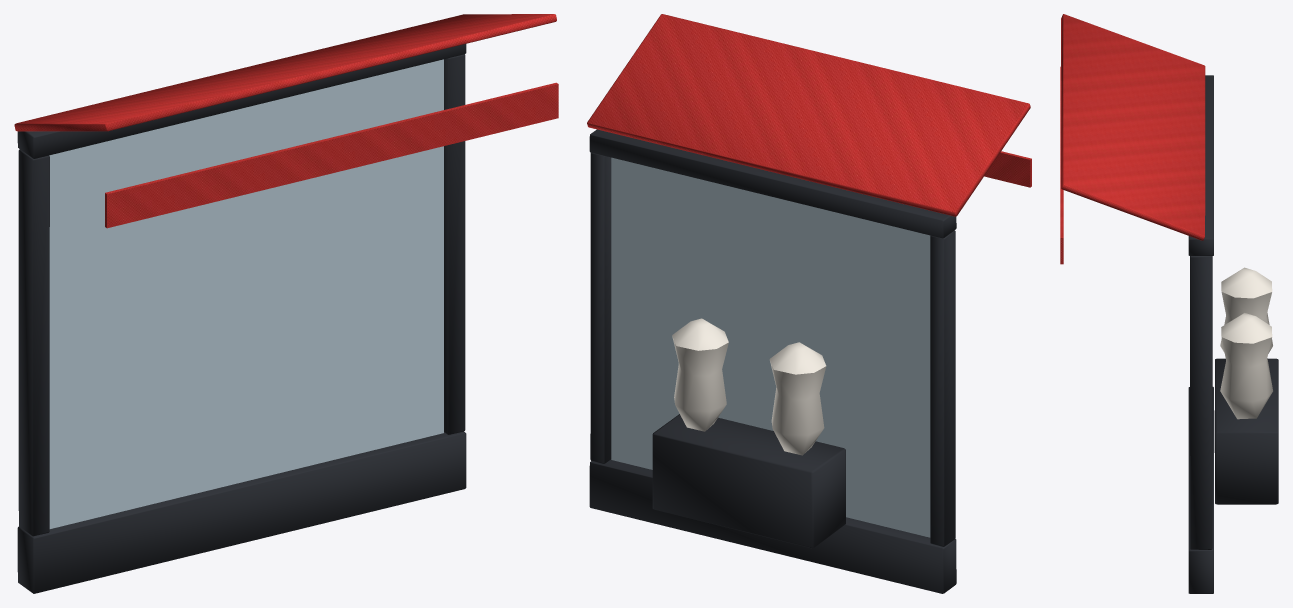
File: fachada-vitrine-22-leve.glb
3 renders of one model, left to right at view 1: azimuth 30°, elevation 25°; view 2: azimuth 150°, elevation 25°; view 3: azimuth 270°, elevation 25°, orthographic. The views are drawn at different scales.
Parts seen in each view (by area): view 1: vidro, soleira, sanefa, toldo, coluna, coluna.001, verga; view 2: vidro, toldo, expositor, soleira, verga, coluna, coluna.001, busto, busto.001, sanefa; view 3: toldo, expositor, coluna.001, busto.001, busto, verga, soleira, sanefa.
Part boxes in pixels (x1,y1,x2,y2): vidro: (49, 59, 443, 528); soleira: (17, 431, 466, 593); sanefa: (105, 82, 558, 228); toldo: (14, 14, 556, 131); coluna: (18, 149, 49, 536); coluna.001: (444, 54, 465, 434); verga: (17, 44, 466, 158); vidro: (611, 157, 930, 537); toldo: (587, 14, 1030, 216); expositor: (652, 414, 845, 548); soleira: (589, 459, 956, 593); verga: (589, 129, 956, 238); coluna: (930, 230, 955, 546); coluna.001: (590, 152, 611, 463); busto: (769, 342, 826, 455); busto.001: (672, 318, 728, 431); sanefa: (984, 151, 1031, 187); toldo: (1061, 14, 1205, 240); expositor: (1214, 358, 1278, 504); coluna.001: (1190, 256, 1212, 549); busto.001: (1220, 313, 1272, 419); busto: (1220, 267, 1272, 353); verga: (1188, 75, 1213, 255); soleira: (1188, 387, 1213, 593); sanefa: (1060, 66, 1063, 264).
Bounding box in the file's own units: 2.5 × 2.81 × 1.35.
4 materials, 1 textured.
